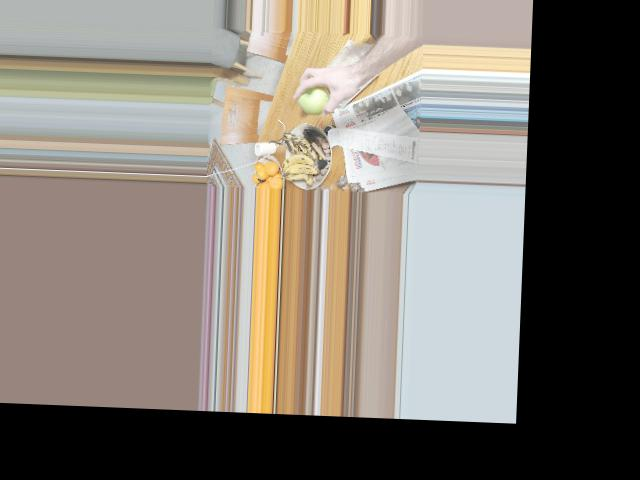apple: (293, 80, 332, 115)
